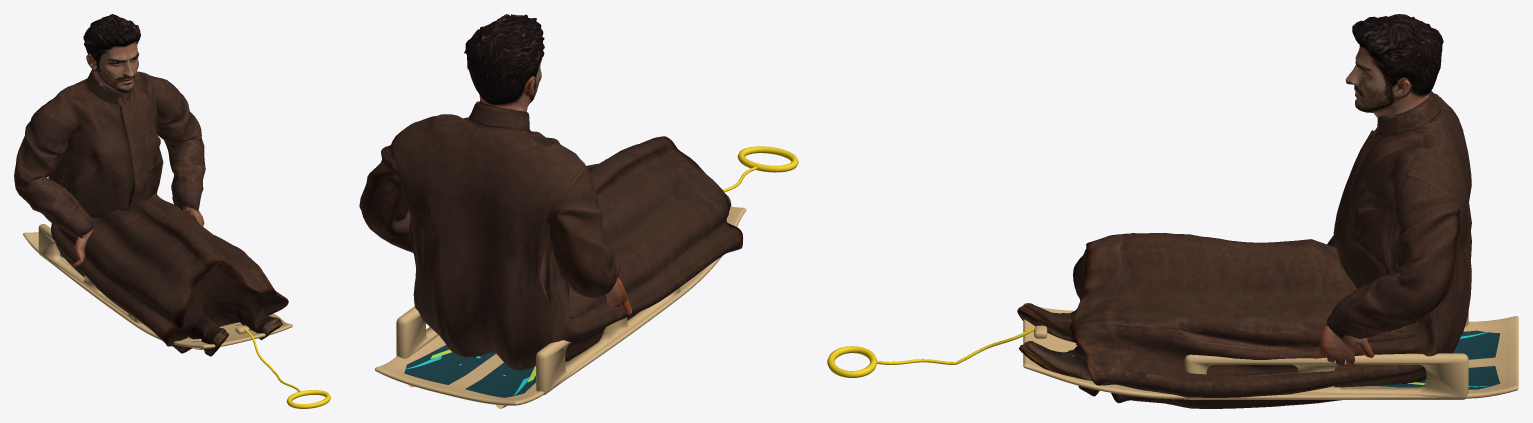
Rendered from Desert_Robe_Character_Sled.glb.
3 views of the same model, side by side, from view 1: azimuth 30°, elevation 25°; view 2: azimuth 150°, elevation 25°; view 3: azimuth 270°, elevation 25° (orthographic). The views are drawn at different scales.
Parts seen in each view (by area): view 1: Desert_Robe_Character_Seated_Static, Sled_Warm sand molded polymer, Pull handle; view 2: Desert_Robe_Character_Seated_Static, Sled_Warm sand molded polymer, Sled_Midnight graphic, Pull handle; view 3: Desert_Robe_Character_Seated_Static, Sled_Warm sand molded polymer, Sled_Midnight graphic, Pull handle, Tow rope.
Part boxes in pixels (left/top/right/bottom): Desert_Robe_Character_Seated_Static: left=14, top=14, right=288, bottom=356; Sled_Warm sand molded polymer: left=23, top=224, right=292, bottom=349; Pull handle: left=286, top=390, right=330, bottom=408; Desert_Robe_Character_Seated_Static: left=359, top=14, right=743, bottom=370; Sled_Warm sand molded polymer: left=375, top=206, right=746, bottom=408; Sled_Midnight graphic: left=404, top=345, right=535, bottom=397; Pull handle: left=737, top=146, right=798, bottom=172; Desert_Robe_Character_Seated_Static: left=1017, top=14, right=1471, bottom=408; Sled_Warm sand molded polymer: left=1023, top=303, right=1518, bottom=399; Sled_Midnight graphic: left=1372, top=330, right=1500, bottom=389; Pull handle: left=827, top=346, right=877, bottom=377; Tow rope: left=876, top=327, right=1035, bottom=364.
Bounding box in the file's own units: 0.7251 × 1 × 1.68.
6 materials, 1 textured.
